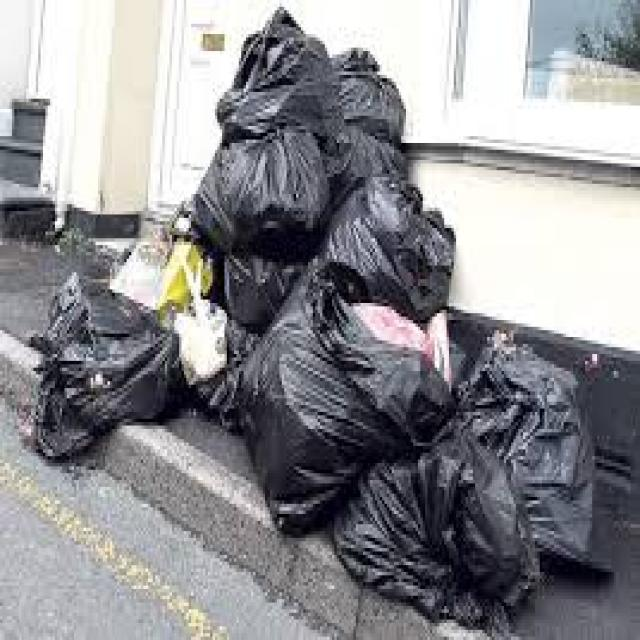plastic_bag: (343, 440, 532, 607), (238, 301, 383, 502), (34, 298, 197, 434), (292, 189, 455, 308), (192, 120, 335, 236)
